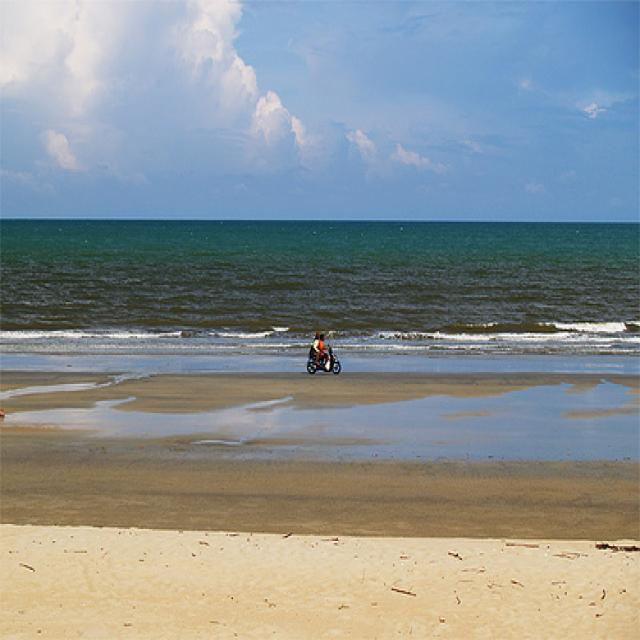motor: (305, 343, 341, 374)
